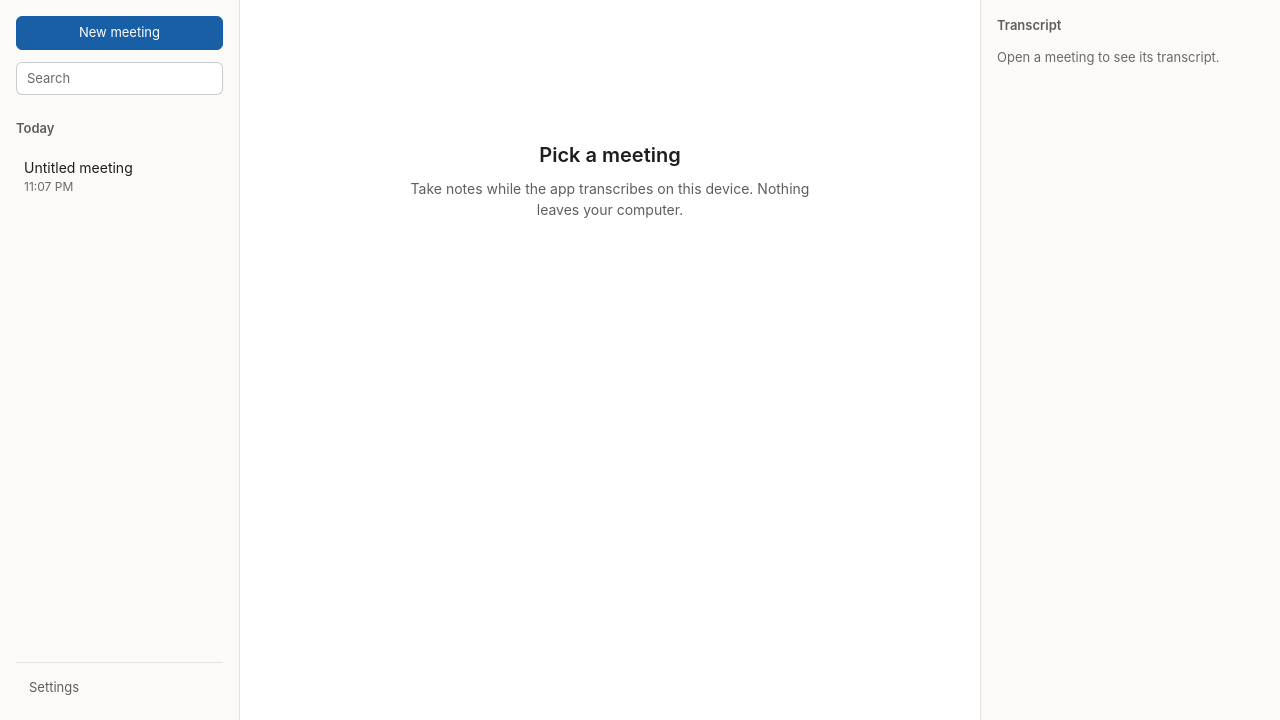
Test case: App › renames a meeting and updates the sidebar
Click the button "Untitled meeting 11:07 PM". click: point(120, 176)
box: left=16, top=150, right=223, bottom=202
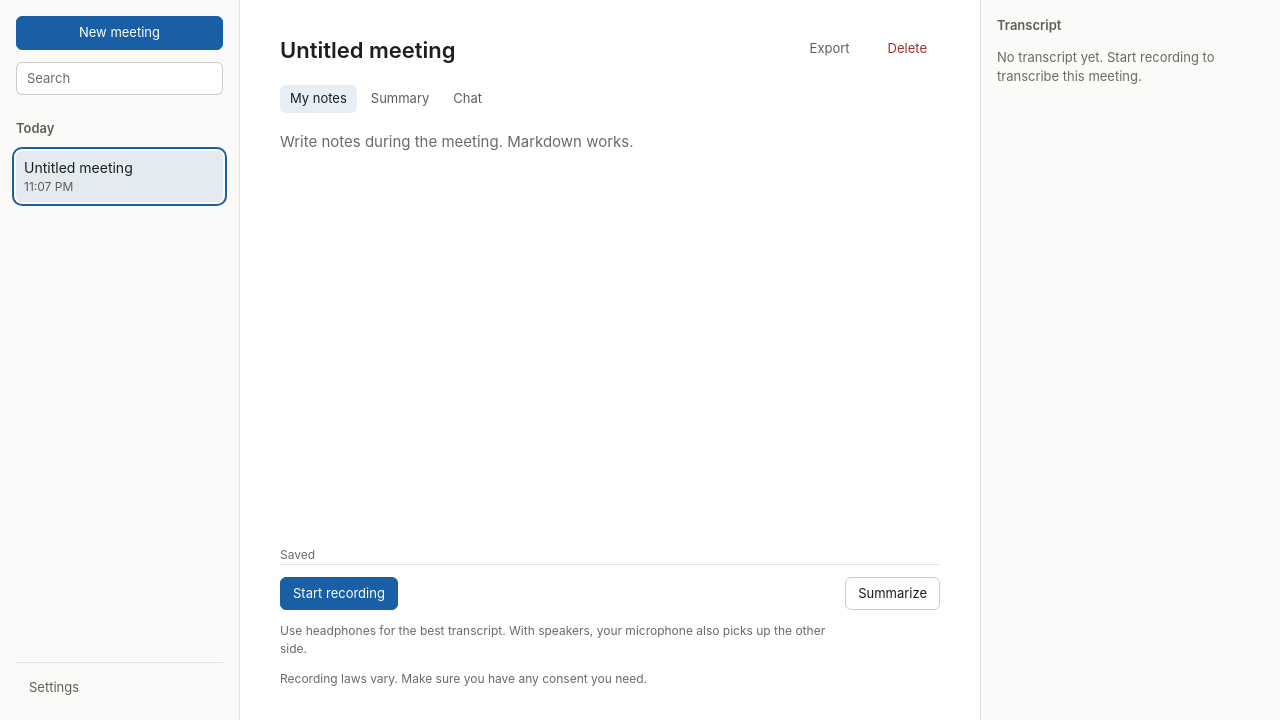
Replace the text in the field named "Meeting title" with "Quarterly planning". click: point(528, 50)
box: left=276, top=32, right=781, bottom=69
Then press Enter
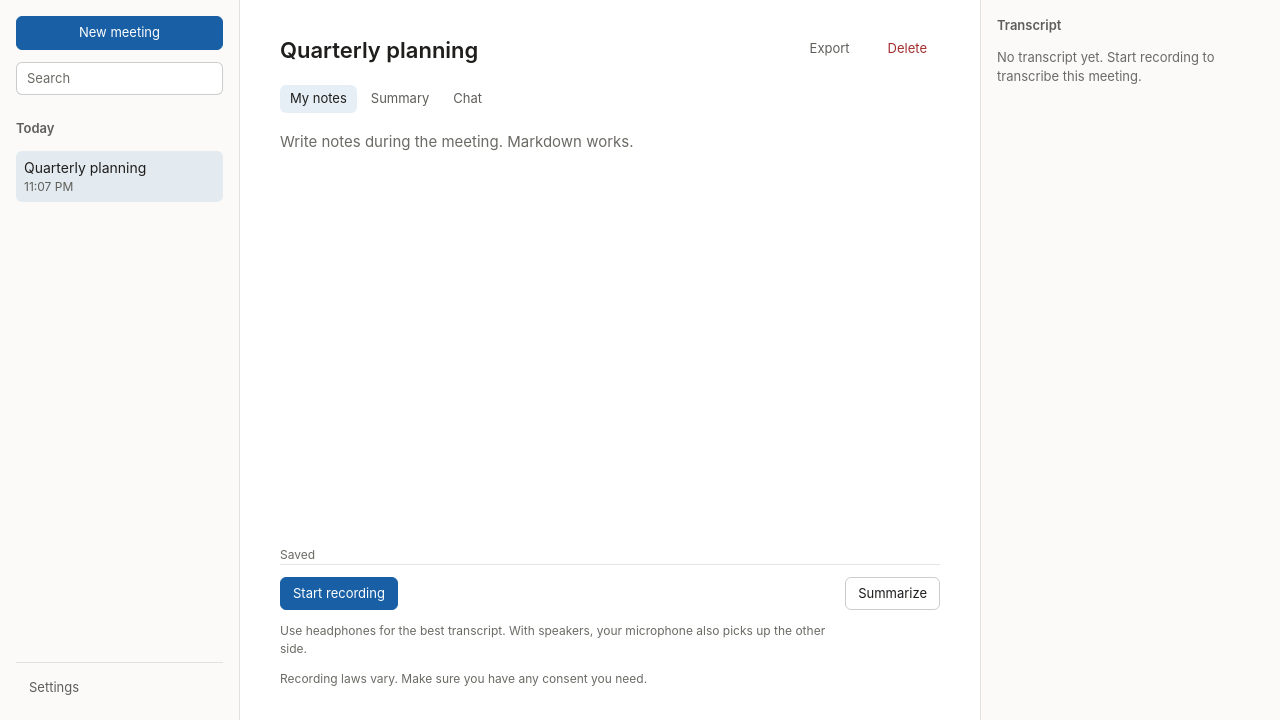
Now the button "Quarterly planning 11:07 PM" is shown, box left=16, top=150, right=223, bottom=202
